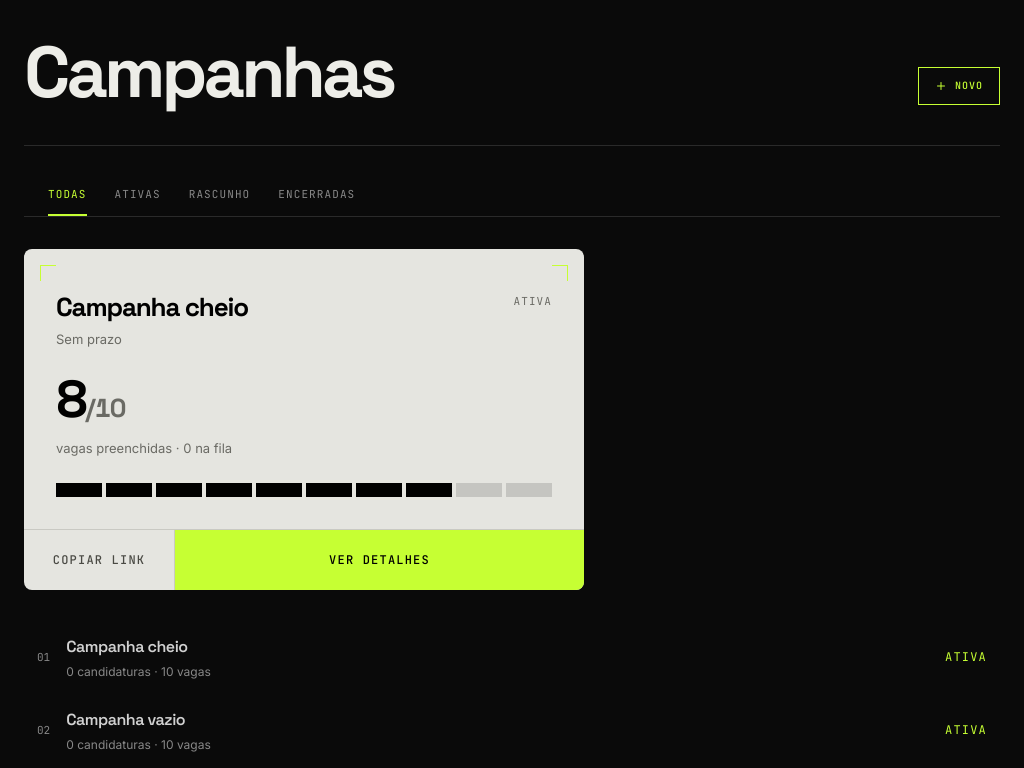
CampaignsPage — placa em destaque › não mostra a placa na aba Rascunho
Click the button "Rascunho" at (220, 201), box [189,186,250,216]
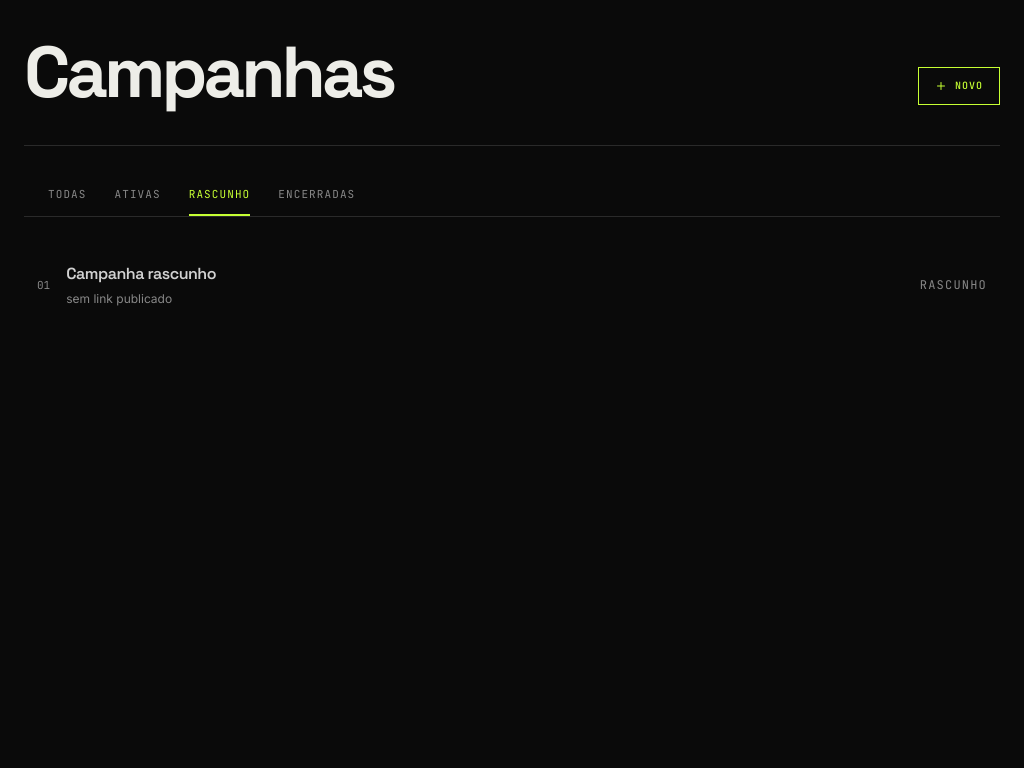
expect the button "Copiar link" is gone: met
